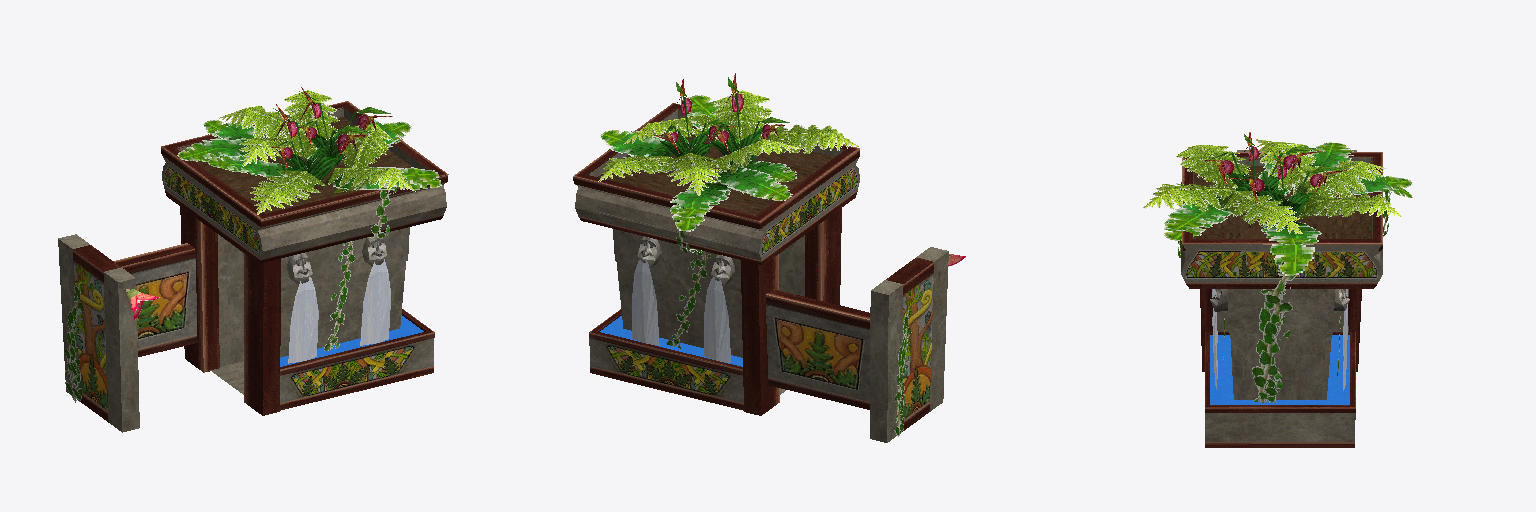
3 views of the same model, side by side, from view 1: azimuth 30°, elevation 25°; view 2: azimuth 150°, elevation 25°; view 3: azimuth 270°, elevation 25° (orthographic).
Visible parts, largest first — view 1: t02, Object04.001, Editable_Poly.023, t01, vine06.001, vines; view 2: t02, Object04.001, Editable_Poly.023, t01; view 3: Editable_Poly.023, Object04.001, t02, vine09, t01, vine05.001.
Boxes of the visible parts, <box> form: t02: <box>58,145,448,431</box>; Object04.001: <box>118,101,447,431</box>; Editable_Poly.023: <box>177,87,441,366</box>; t01: <box>60,108,445,432</box>; vine06.001: <box>65,298,83,402</box>; vines: <box>324,241,353,350</box>; t02: <box>578,110,948,442</box>; Object04.001: <box>573,103,888,441</box>; Editable_Poly.023: <box>598,73,858,366</box>; t01: <box>575,147,948,442</box>; Editable_Poly.023: <box>1143,132,1412,404</box>; Object04.001: <box>1181,152,1382,447</box>; t02: <box>1182,150,1380,447</box>; vine09: <box>1253,262,1296,402</box>; t01: <box>1183,158,1379,447</box>; vine05.001: <box>1252,262,1295,401</box>.
Bounding box in the file's own units: 5.3 × 4.21 × 3.9.
33 materials, 4 textured.